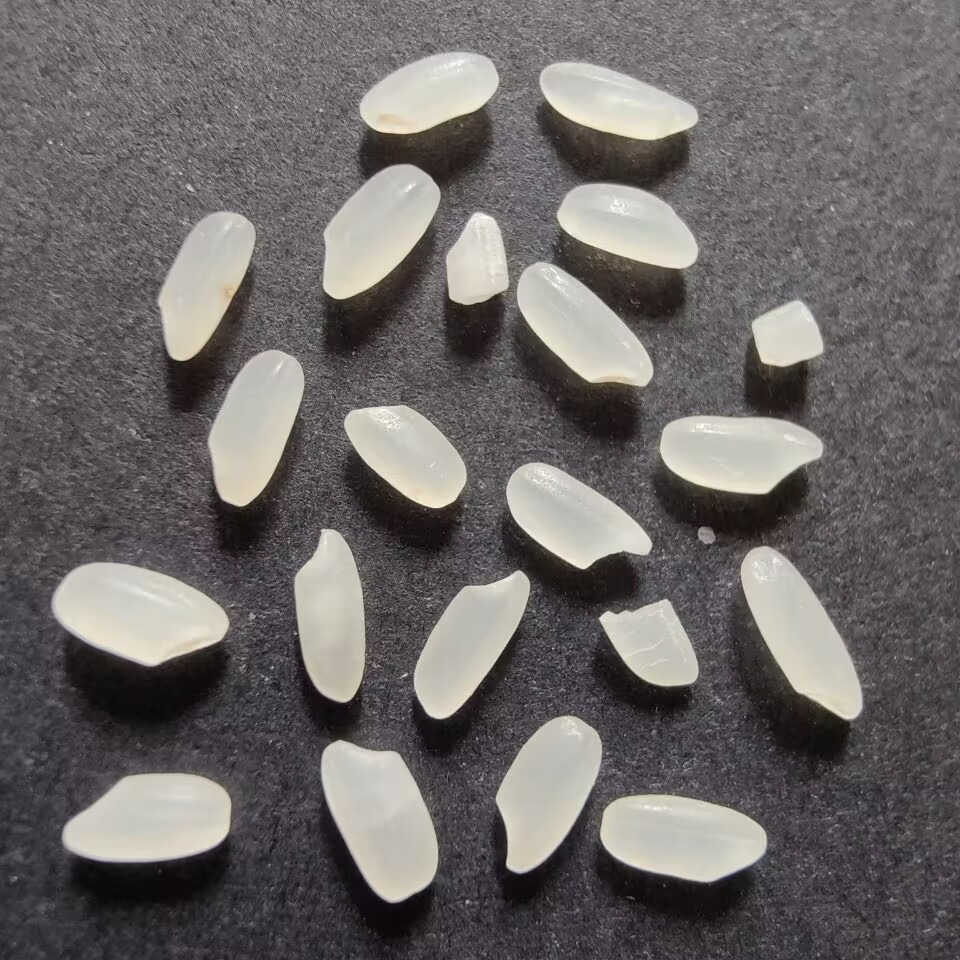broken: (591, 595, 702, 696), (439, 205, 517, 311), (740, 297, 827, 373)
rice: (730, 543, 870, 724), (311, 733, 444, 904), (44, 559, 240, 672), (512, 253, 661, 394), (406, 564, 536, 723), (57, 764, 237, 872), (501, 454, 659, 577), (491, 707, 605, 877), (319, 160, 447, 307), (592, 790, 772, 889), (201, 344, 308, 510), (148, 204, 259, 364), (287, 525, 377, 707), (653, 408, 833, 498), (547, 177, 705, 275), (338, 398, 471, 512), (533, 55, 703, 142), (354, 45, 506, 140)
